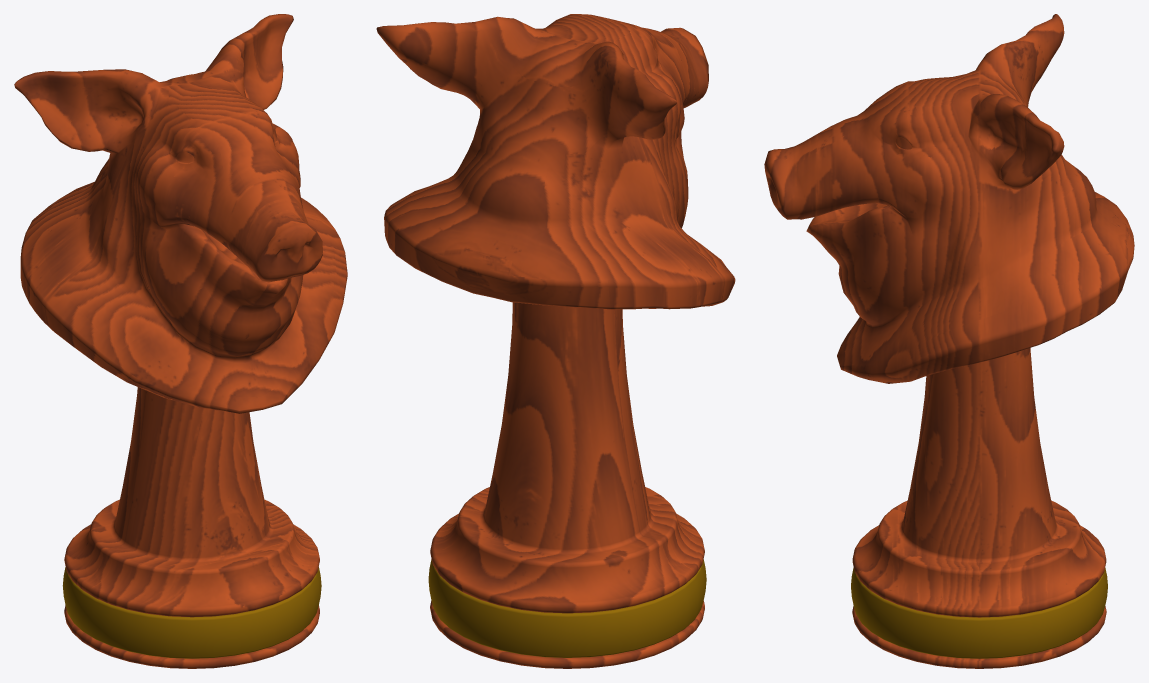
File: pigheadTrophy.fbx
3 views of the same model, side by side, from view 1: azimuth 30°, elevation 25°; view 2: azimuth 150°, elevation 25°; view 3: azimuth 270°, elevation 25° (orthographic). The views are drawn at different scales.
Parts seen in each view (by area): view 1: pighead1; view 2: pighead1; view 3: pighead1.
Part boxes in pixels (x1,y1,x2,y2): pighead1: (14,14,347,668); pighead1: (376,14,735,668); pighead1: (764,14,1134,668).
Bounding box in the file's own units: 22.91 × 41 × 25.18.
